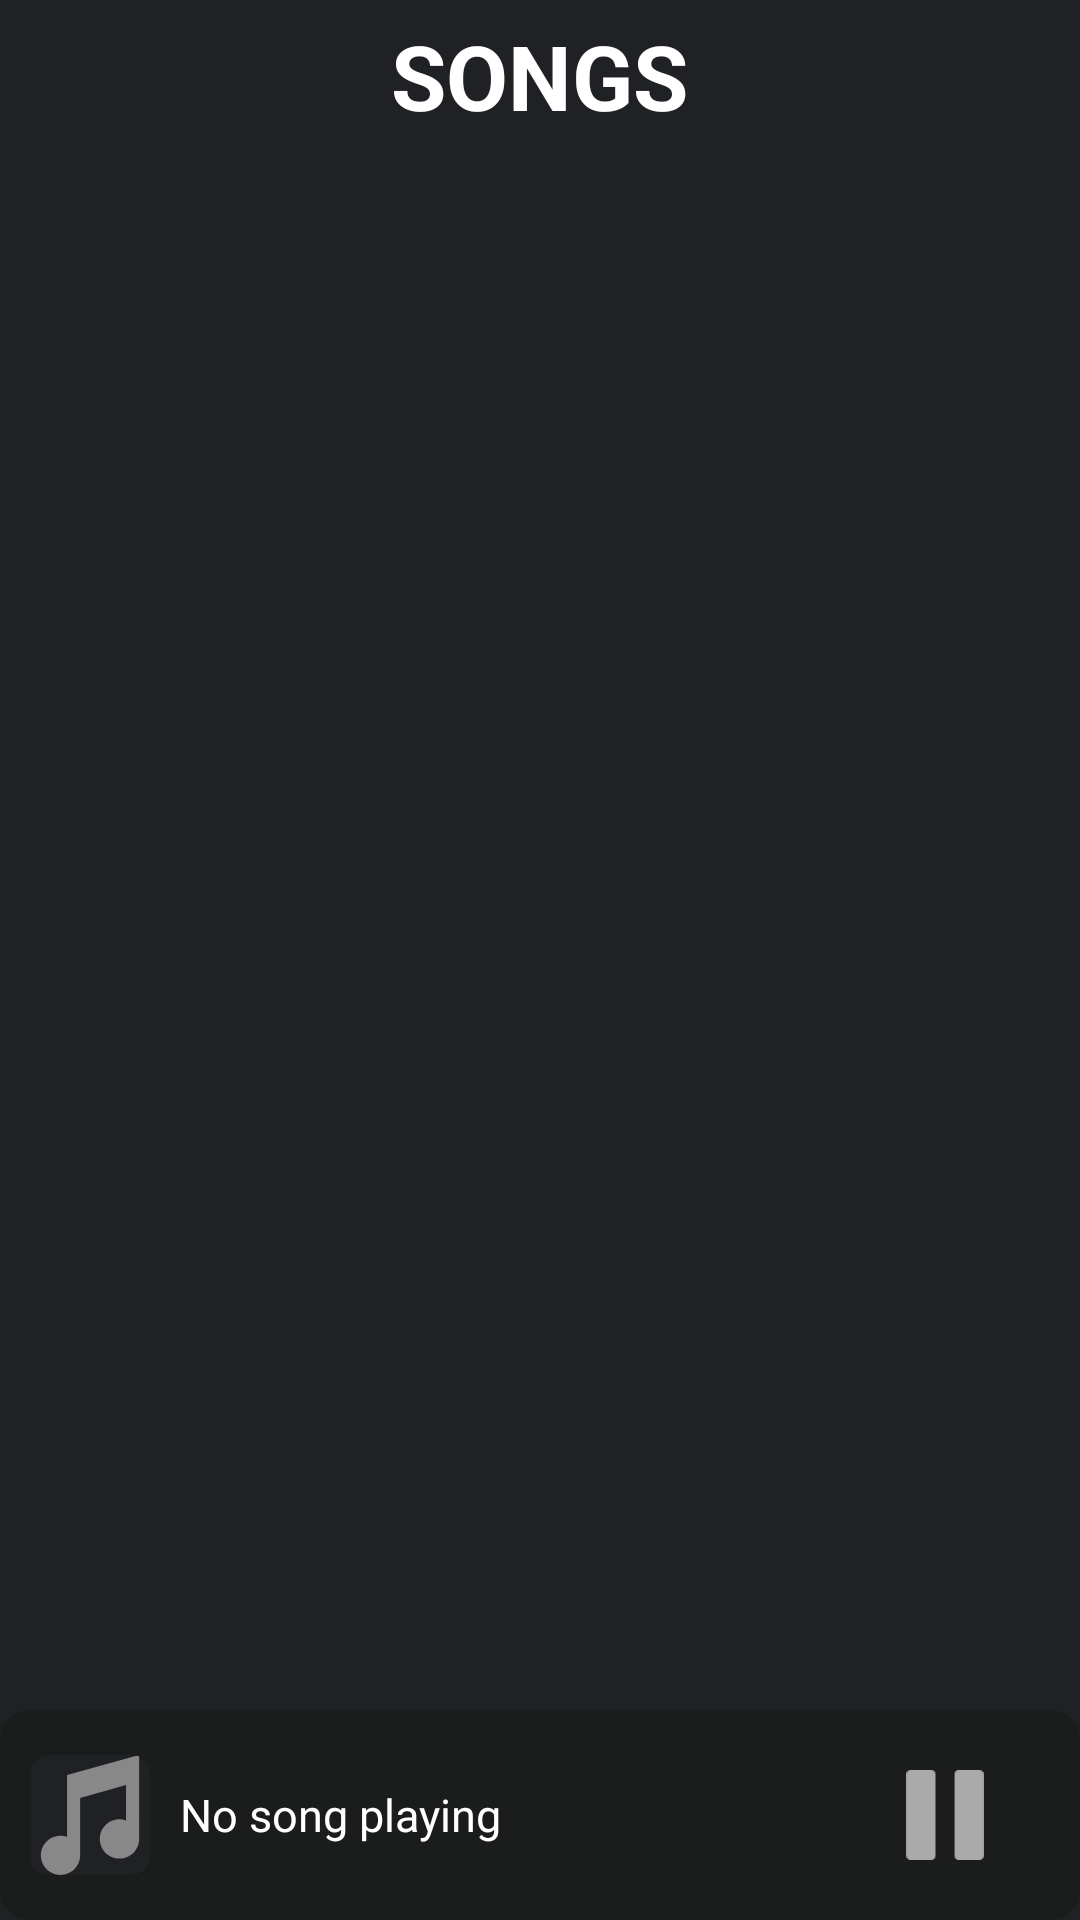

Locate icon controls on the screen. Image size 1080w x 1920h, boxes as bbox=[x1, y1, x2, y2].
music note: bbox=[41, 1756, 139, 1875]
pause: bbox=[906, 1770, 984, 1860]
